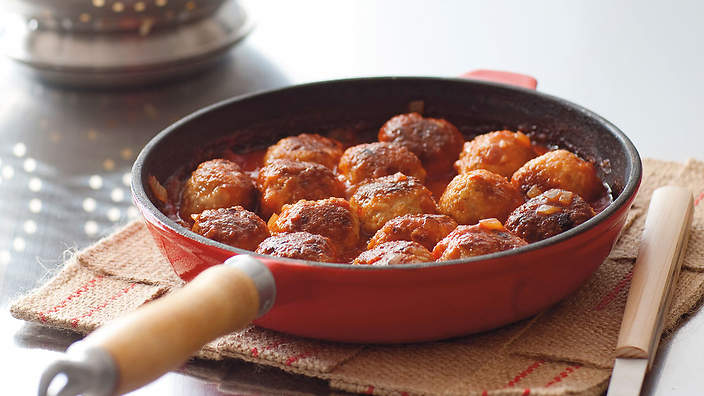meatballs: (183, 114, 594, 258)
